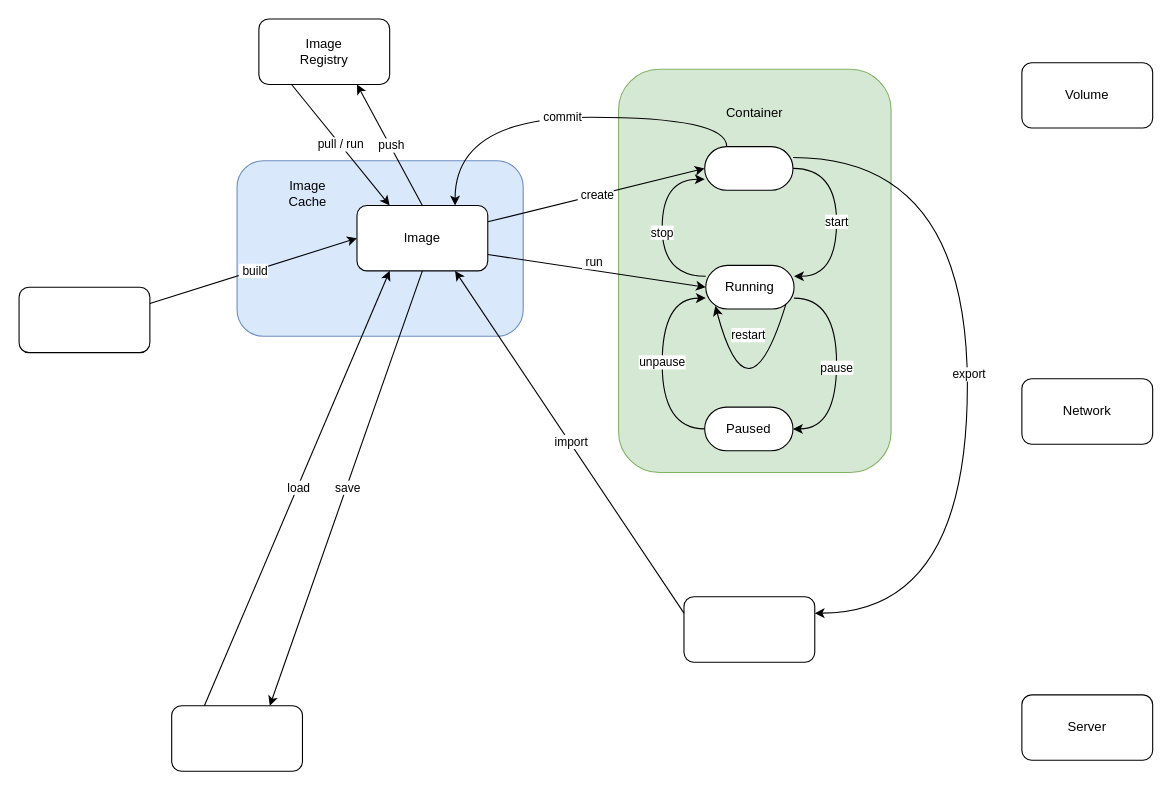
This 1172x790 diagram has some shape labels left out. Here are the shapes that lost their labels. From the top down, the centre of each, then its label:
At (x=748, y=168): "Stopped".
At (x=84, y=319): "Dockerfile".
At (x=749, y=629): "Filesystem Tarfile".
At (x=236, y=738): "Image Tarfile".
